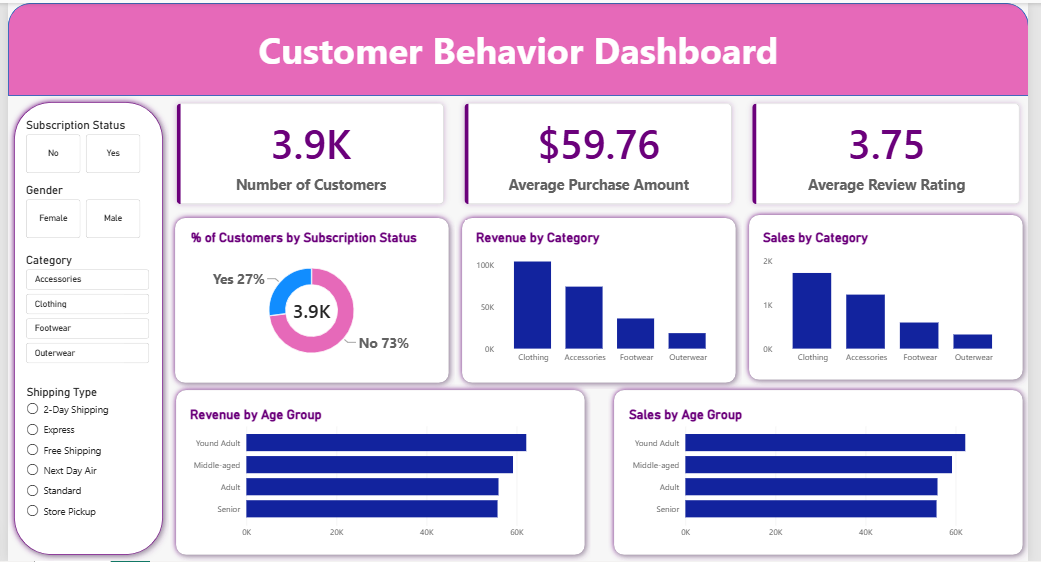

The page's visual inventory and layout, read from the dashboard file:
{"tool":"powerbi","page":{"name":"Page 1","canvas":[1500,820],"ordinal":0},"visuals":[{"type":"cardVisual","fields":{"Data":["customer_behavior customer_data.Number of Customers","customer_behavior customer_data.Average Purchase Amount","customer_behavior customer_data.Average Review Rating"]},"box":[236.7,136.7,1263.3,170],"z":0},{"type":"shape","box":[0,0,1500,136.7],"z":1000},{"type":"textbox","box":[0,31.7,1500,80],"z":2000},{"type":"shape","box":[236.7,306.7,420,260],"z":3000},{"type":"donutChart","title":"% of Customers  by Subscription Status","fields":{"Category":["customer_behavior customer_data.subscription_status"],"Y":["CountNonNull(customer_behavior customer_data.customer_id)"]},"box":[253.3,318.3,386.7,230],"z":4000},{"type":"shape","box":[658.3,306.7,420,260],"z":5000},{"type":"shape","box":[1080,303.3,420,260],"z":6000},{"type":"clusteredColumnChart","title":"Revenue by Category","fields":{"Category":["customer_behavior customer_data.category"],"Y":["Sum(customer_behavior customer_data.purchase_amount)"]},"box":[671.7,318.3,391.7,230],"z":7000},{"type":"clusteredColumnChart","title":"Sales by Category","fields":{"Category":["customer_behavior customer_data.category"],"Y":["CountNonNull(customer_behavior customer_data.customer_id)"]},"box":[1093.3,318.3,391.7,230],"z":8000},{"type":"shape","box":[0,136.7,236.7,683.3],"z":9000},{"type":"advancedSlicerVisual","title":"Subscription Status","fields":{"Values":["customer_behavior customer_data.subscription_status"]},"box":[26.7,168.3,181.7,81.7],"z":10000},{"type":"advancedSlicerVisual","title":"Category","fields":{"Values":["customer_behavior customer_data.category"]},"box":[26.7,367.2,181.7,163.3],"z":12000},{"type":"listSlicer","fields":{"Values":["customer_behavior customer_data.shipping_type"]},"box":[21.7,548.3,186.7,233.3],"z":13000},{"type":"shape","box":[238.3,560,618.3,260],"z":14000},{"type":"clusteredBarChart","title":"Revenue by Age Group","fields":{"Category":["customer_behavior customer_data.age_group"],"Y":["Sum(customer_behavior customer_data.purchase_amount)"]},"box":[251.7,578.3,588.3,228.3],"z":15000},{"type":"shape","box":[881.7,560,618.3,260],"z":16000},{"type":"clusteredBarChart","title":"Sales by Age Group","fields":{"Category":["customer_behavior customer_data.age_group"],"Y":["Sum(customer_behavior customer_data.purchase_amount)"]},"box":[896.7,578.3,588.3,228.3],"z":16001},{"type":"advancedSlicerVisual","title":"Gender","fields":{"Values":["customer_behavior customer_data.gender"]},"box":[26.7,265,181.7,81.7],"z":16002}]}

Visuals, with their boxes in screenshot pixels (x1, y1, x2, y2), scaled from the page's 1500x820 canvas onto the 1041x562 screenshot:
cardVisual - customer_behavior customer_data.Number of Customers x customer_behavior customer_data.Average Purchase Amount: [164, 94, 1040, 210]
shape: [0, 0, 1040, 94]
textbox: [0, 22, 1040, 77]
shape: [164, 210, 456, 388]
"% of Customers  by Subscription Status" donutChart: [176, 218, 444, 376]
shape: [457, 210, 748, 388]
shape: [750, 208, 1040, 386]
"Revenue by Category" clusteredColumnChart: [466, 218, 738, 376]
"Sales by Category" clusteredColumnChart: [759, 218, 1031, 376]
shape: [0, 94, 164, 561]
"Subscription Status" advancedSlicerVisual: [19, 115, 145, 171]
"Category" advancedSlicerVisual: [19, 252, 145, 364]
listSlicer - customer_behavior customer_data.shipping_type: [15, 376, 145, 536]
shape: [165, 384, 594, 561]
"Revenue by Age Group" clusteredBarChart: [175, 396, 583, 553]
shape: [612, 384, 1040, 561]
"Sales by Age Group" clusteredBarChart: [622, 396, 1031, 553]
"Gender" advancedSlicerVisual: [19, 182, 145, 238]
